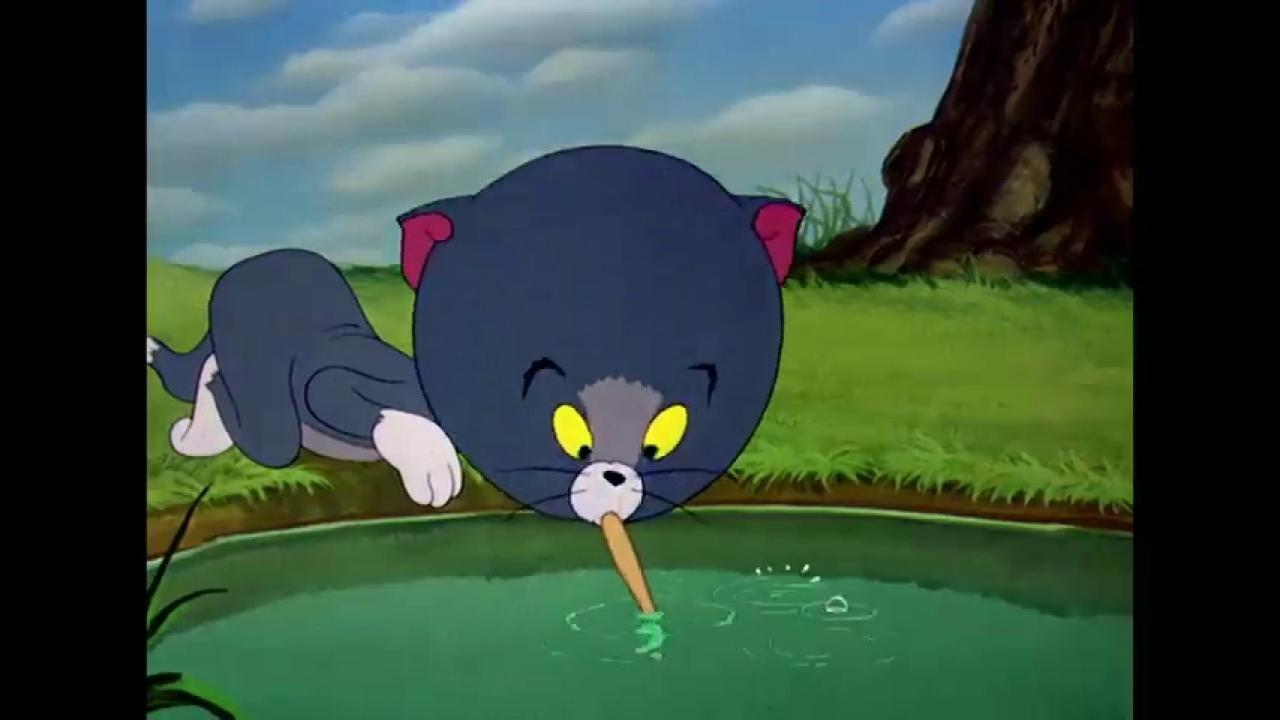Tom: (146, 141, 808, 524)
